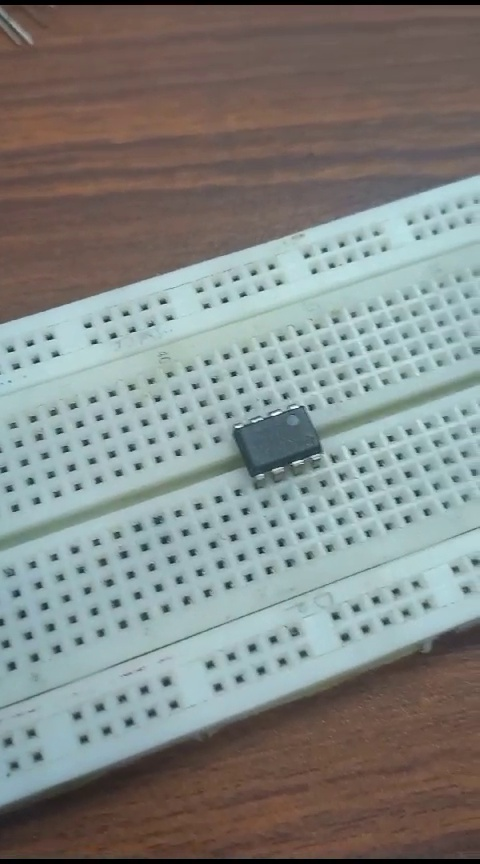IC: (233, 397, 337, 484)
